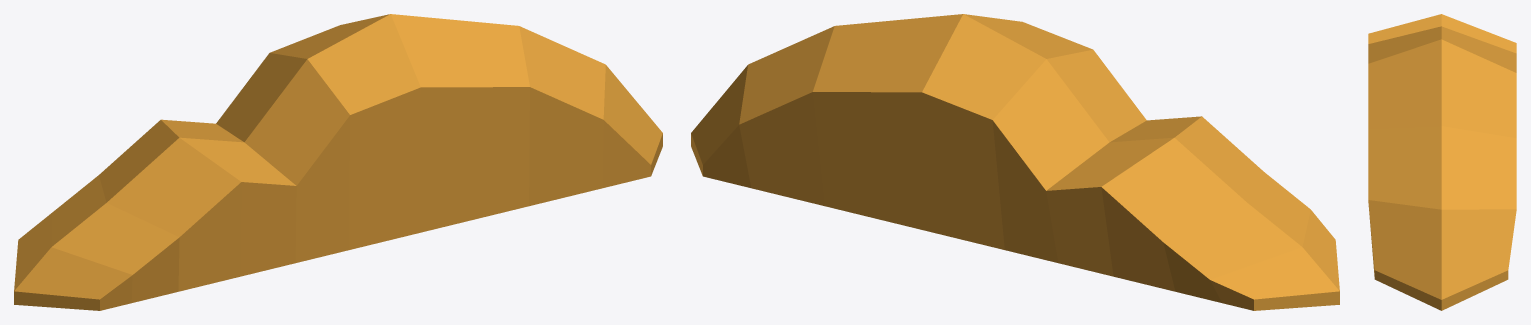
File: piedra.glb
3 renders of one model, left to right at view 1: azimuth 30°, elevation 25°; view 2: azimuth 150°, elevation 25°; view 3: azimuth 270°, elevation 25°, orthographic. The views are drawn at different scales.
Visible parts, largest first — view 1: Roca; view 2: Roca; view 3: Roca.
Boxes of the visible parts, bbox=[...] form: Roca: bbox=[14, 14, 662, 310]; Roca: bbox=[691, 14, 1339, 310]; Roca: bbox=[1368, 14, 1516, 310].
Size of the model in its own units: 7.34 by 2.15 by 1.78.
